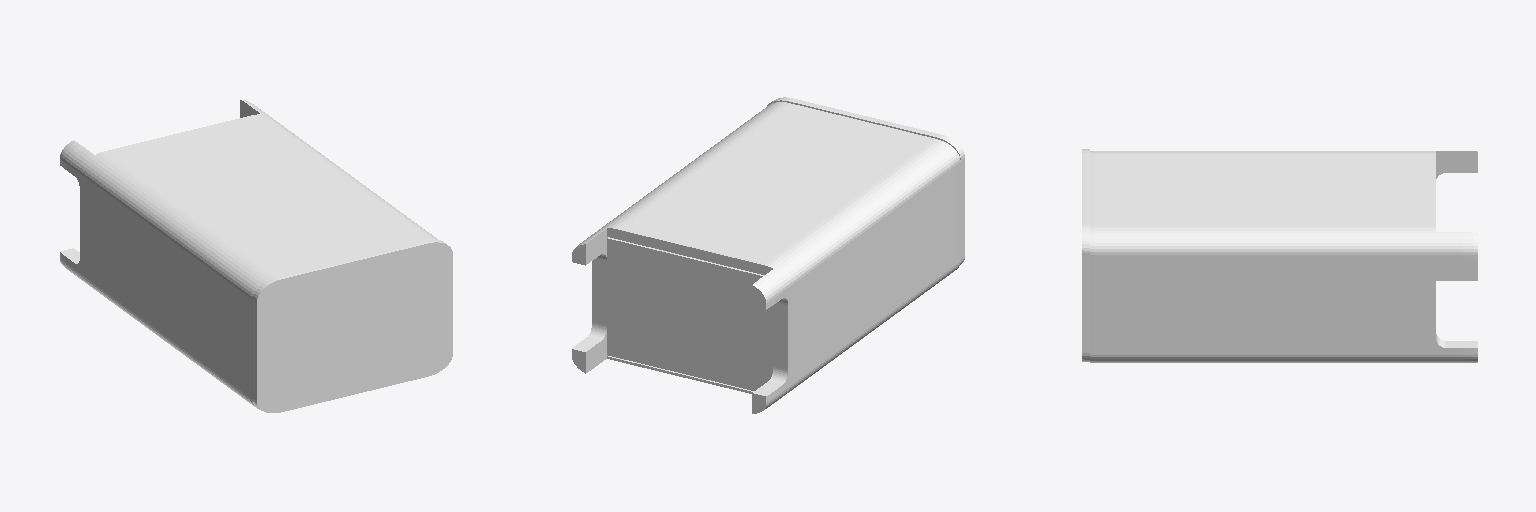
The model's file is busungeWardrobe.obj.
3 renders of one model, left to right at view 1: azimuth 30°, elevation 25°; view 2: azimuth 150°, elevation 25°; view 3: azimuth 270°, elevation 25°, orthographic.
Visible parts, largest first — view 1: obj_0; view 2: obj_0; view 3: obj_0.
Part boxes in pixels (left/top/right/bottom): obj_0: left=60, top=99, right=452, bottom=412; obj_0: left=572, top=97, right=964, bottom=413; obj_0: left=1082, top=149, right=1477, bottom=362.
Bounding box in the file's own units: 80 × 52.43 × 140.